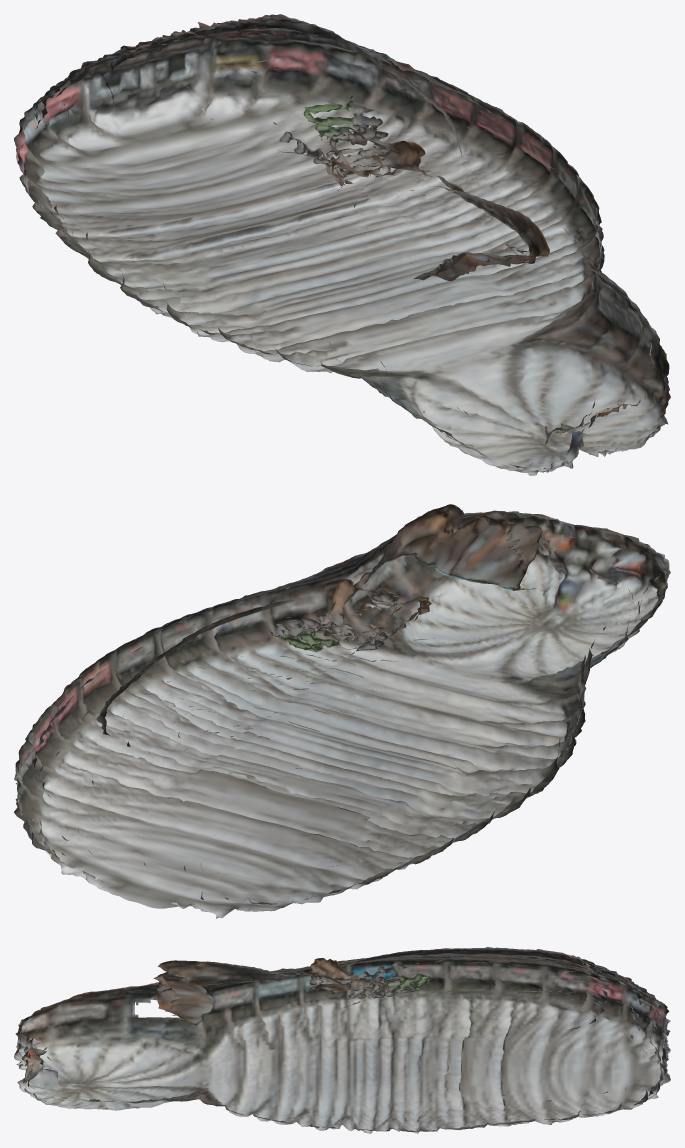
The model's file is gen-17.glb.
3 views of the same model, one above another, from view 1: azimuth 30°, elevation 25°; view 2: azimuth 150°, elevation 25°; view 3: azimuth 270°, elevation 25° (orthographic). The views are drawn at different scales.
Visible parts, largest first — view 1: world; view 2: world; view 3: world.
Part boxes in pixels (left/top/right/bottom): world: left=14, top=14, right=670, bottom=475; world: left=14, top=504, right=670, bottom=918; world: left=14, top=947, right=670, bottom=1133.
Size of the model in its own units: 5.92 by 2.13 by 10.8.
